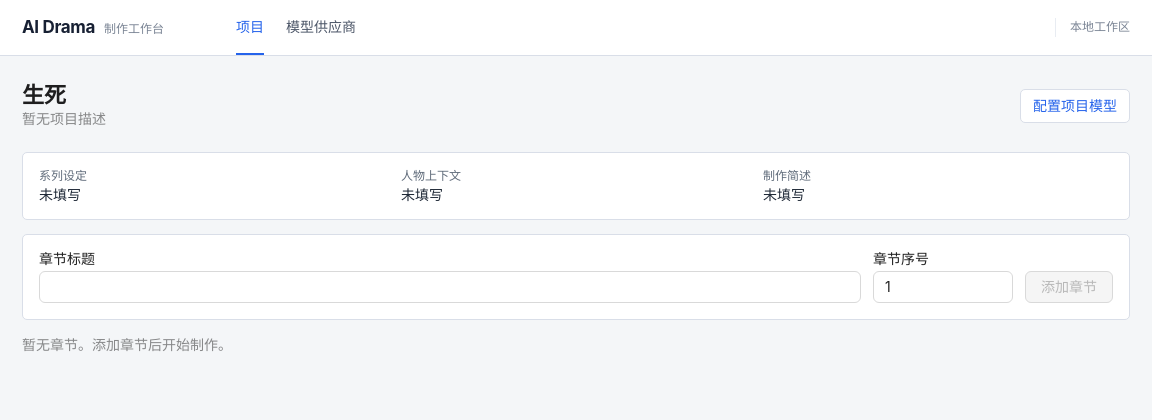
Test case: project pages › shows chapter status and next action for created chapters
Expected: the heading "生死" is shown, [22,82,66,108]
Type "第一章" into the field labelled "章节标题".
click(450, 287); type("第一章")  # box [39,271,861,303]
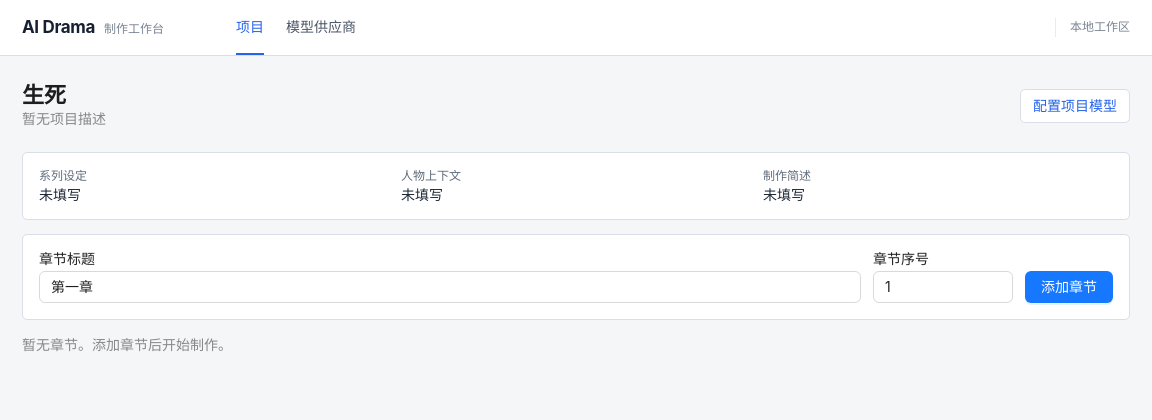
Click the button "添加章节".
click(1069, 287)  # box [1025,271,1113,303]
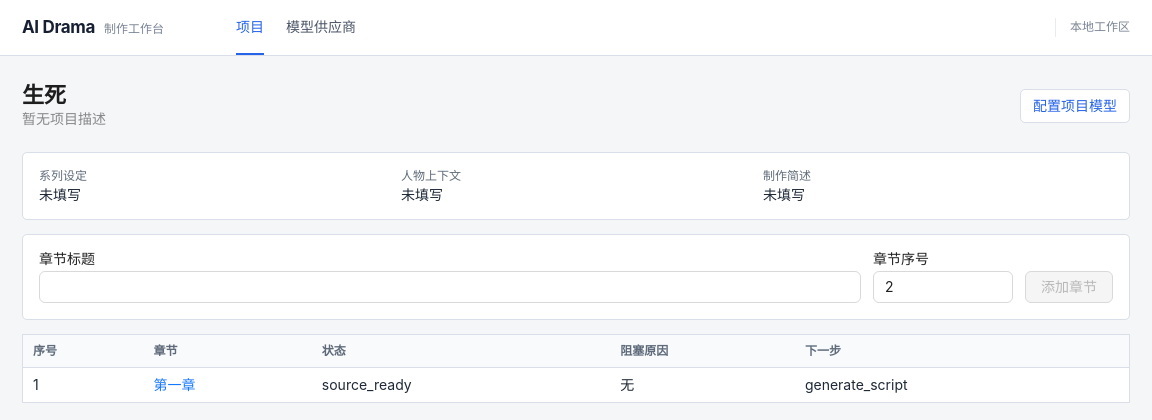
Expected: the text "source_ready" is shown, [312,367,610,402]
Expected: the text "generate_script" is shown, [795,367,1130,402]
